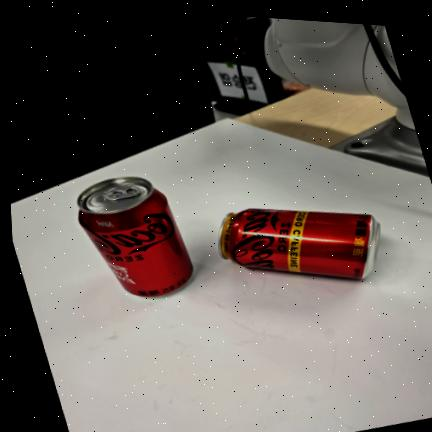can_coke_decaf: (220, 210, 383, 280)
can_coke_zero: (82, 177, 196, 297)
